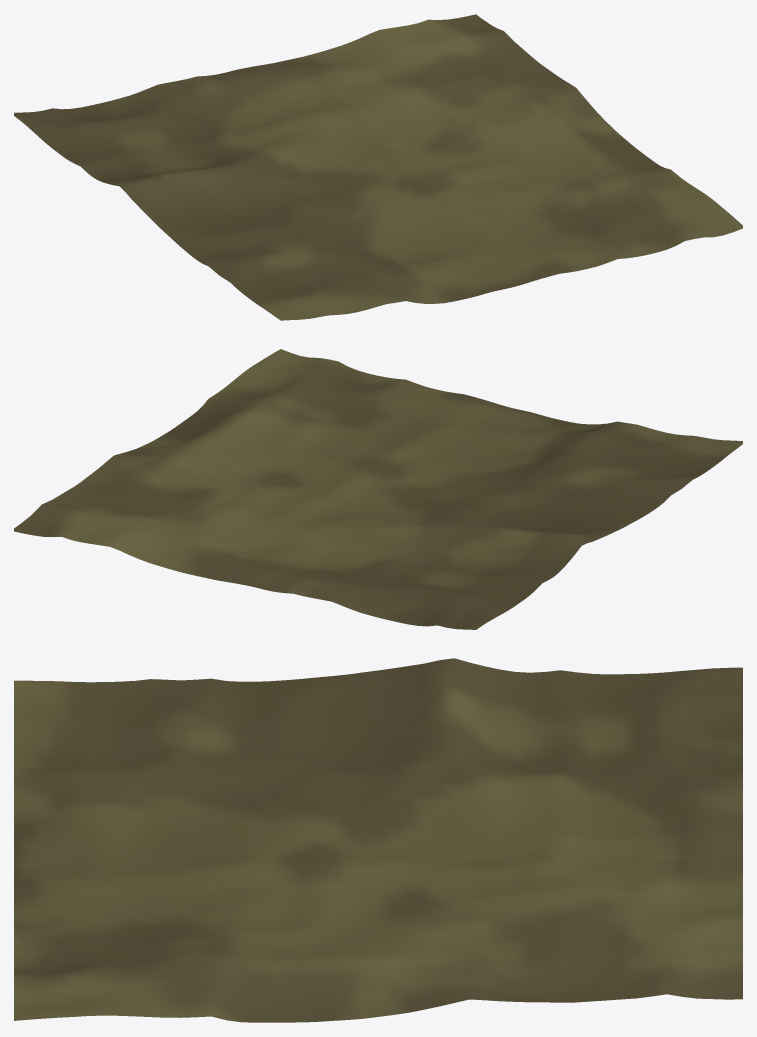
Rendered from land_m_01_01.glb.
3 renders of one model, top to bottom at view 1: azimuth 30°, elevation 25°; view 2: azimuth 150°, elevation 25°; view 3: azimuth 270°, elevation 25°, orthographic. The views are drawn at different scales.
Visible parts, largest first — view 1: land_m_01_01; view 2: land_m_01_01; view 3: land_m_01_01.
Part boxes in pixels (x1,y1,x2,y2): land_m_01_01: (14,14,742,320); land_m_01_01: (14,349,742,629); land_m_01_01: (14,658,742,1022).
Bounding box in the file's own units: 960 × 86.77 × 960.
